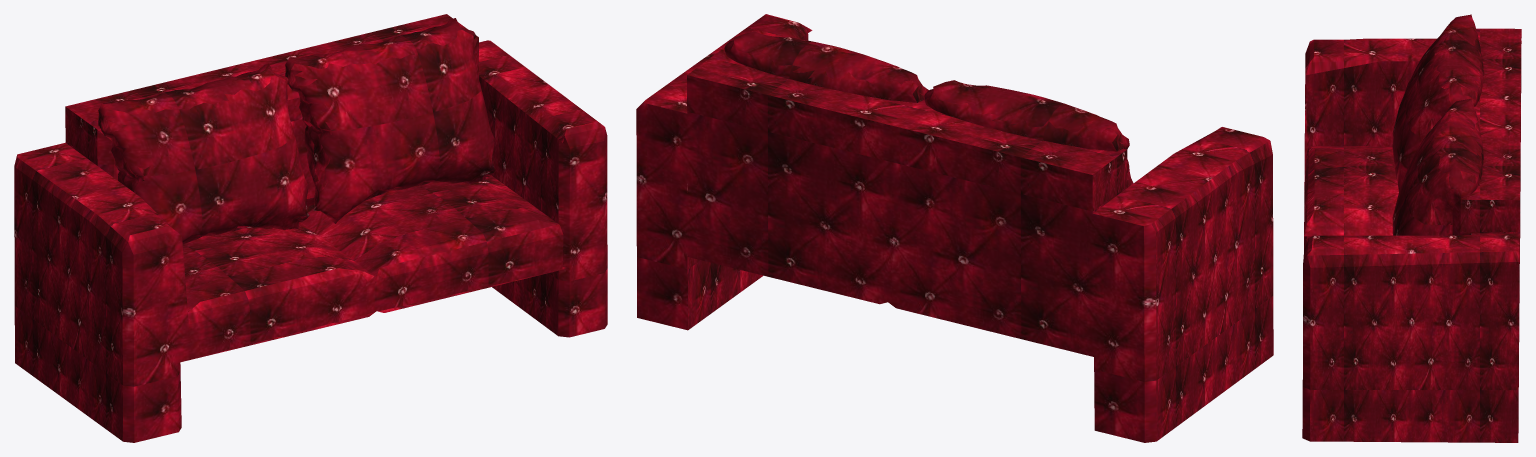
File: canapé.FBX
3 renders of one model, left to right at view 1: azimuth 30°, elevation 25°; view 2: azimuth 150°, elevation 25°; view 3: azimuth 270°, elevation 25°, orthographic. The views are drawn at different scales.
Visible parts, largest first — view 1: Objet016, Rectangle004, Rectangle003; view 2: Objet016, Rectangle003, Rectangle004; view 3: Objet016, Rectangle004, Rectangle003.
Part boxes in pixels (x1,y1,x2,y2): Objet016: (14,14,607,442); Rectangle004: (285,18,496,223); Rectangle003: (98,63,309,244); Objet016: (636,14,1273,442); Rectangle003: (923,80,1133,187); Rectangle004: (724,31,928,102); Objet016: (1302,28,1521,442); Rectangle004: (1392,98,1483,235); Rectangle003: (1392,14,1483,191).
Bounding box in the file's own units: 1022 × 530 × 434.
